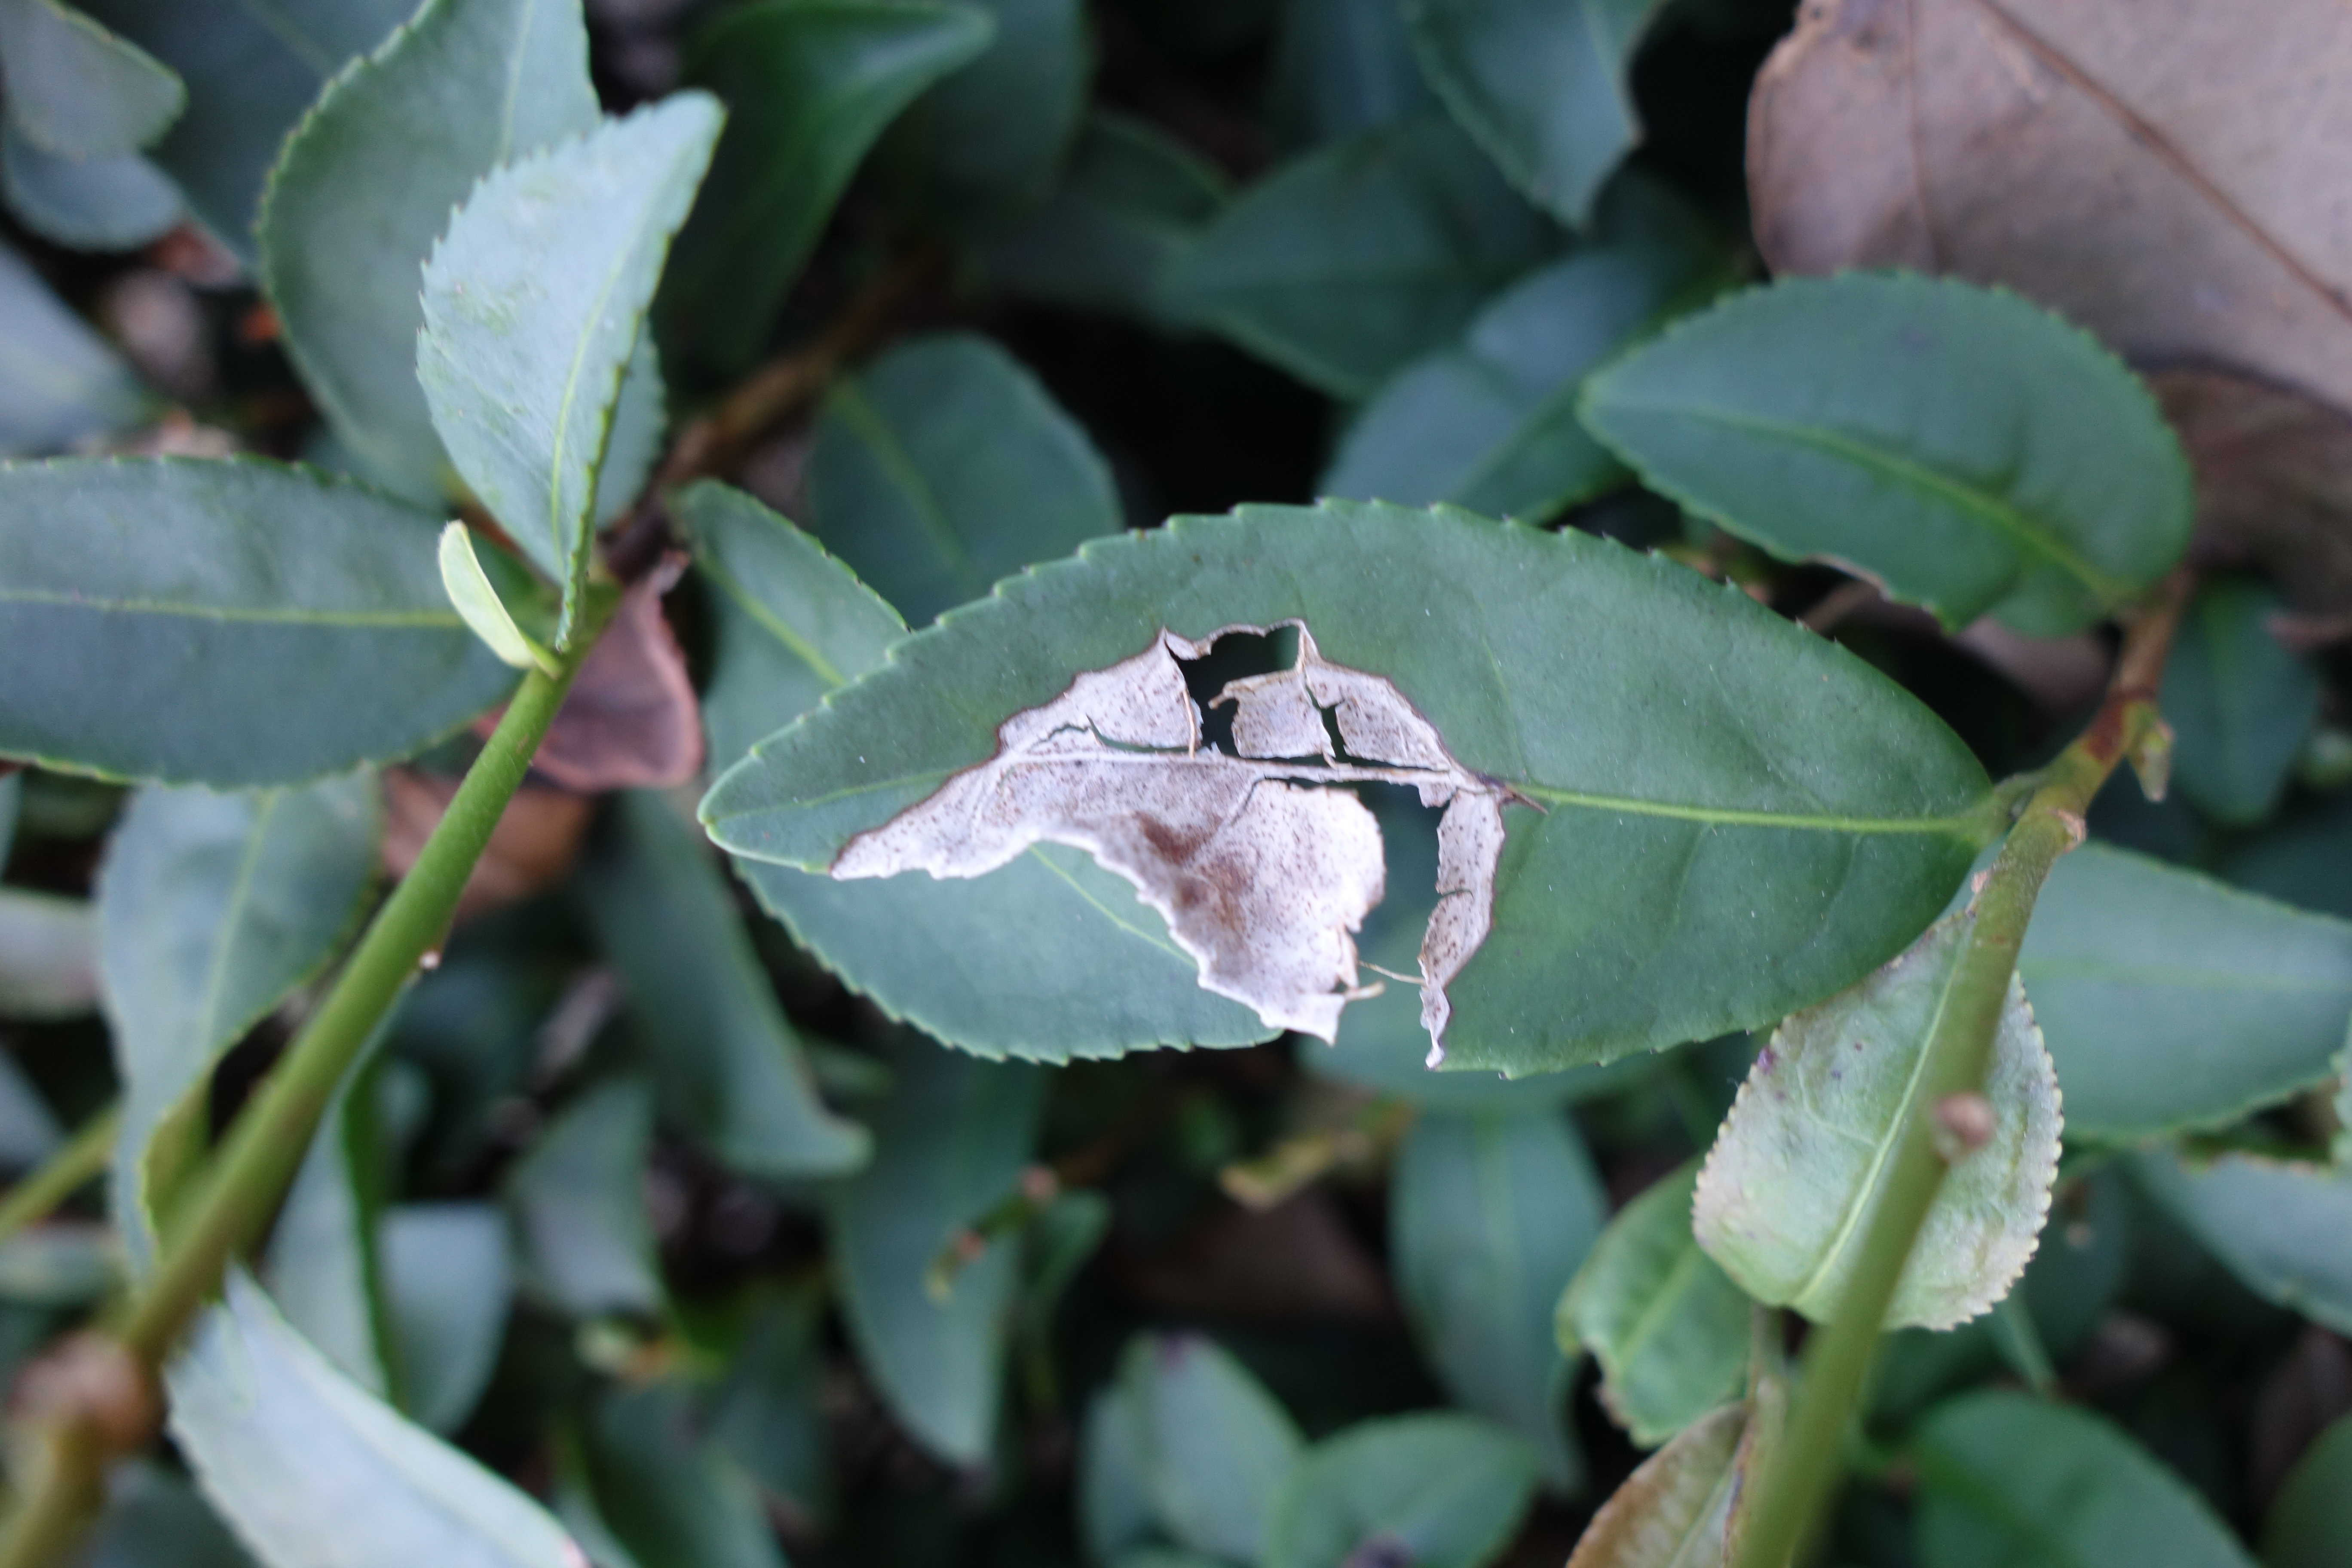healthy: (411, 91, 730, 670), (3, 450, 541, 793)
tanju_high: (698, 499, 2002, 1083)
tanju_low: (1692, 906, 2067, 1332), (1573, 1412, 1773, 1561)
